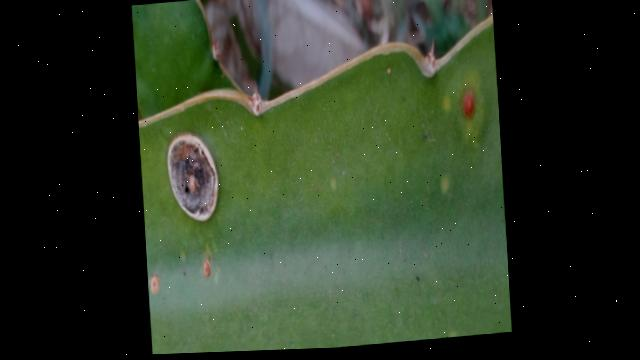stemcanker: (451, 78, 486, 130), (197, 251, 218, 283), (145, 270, 166, 301)
